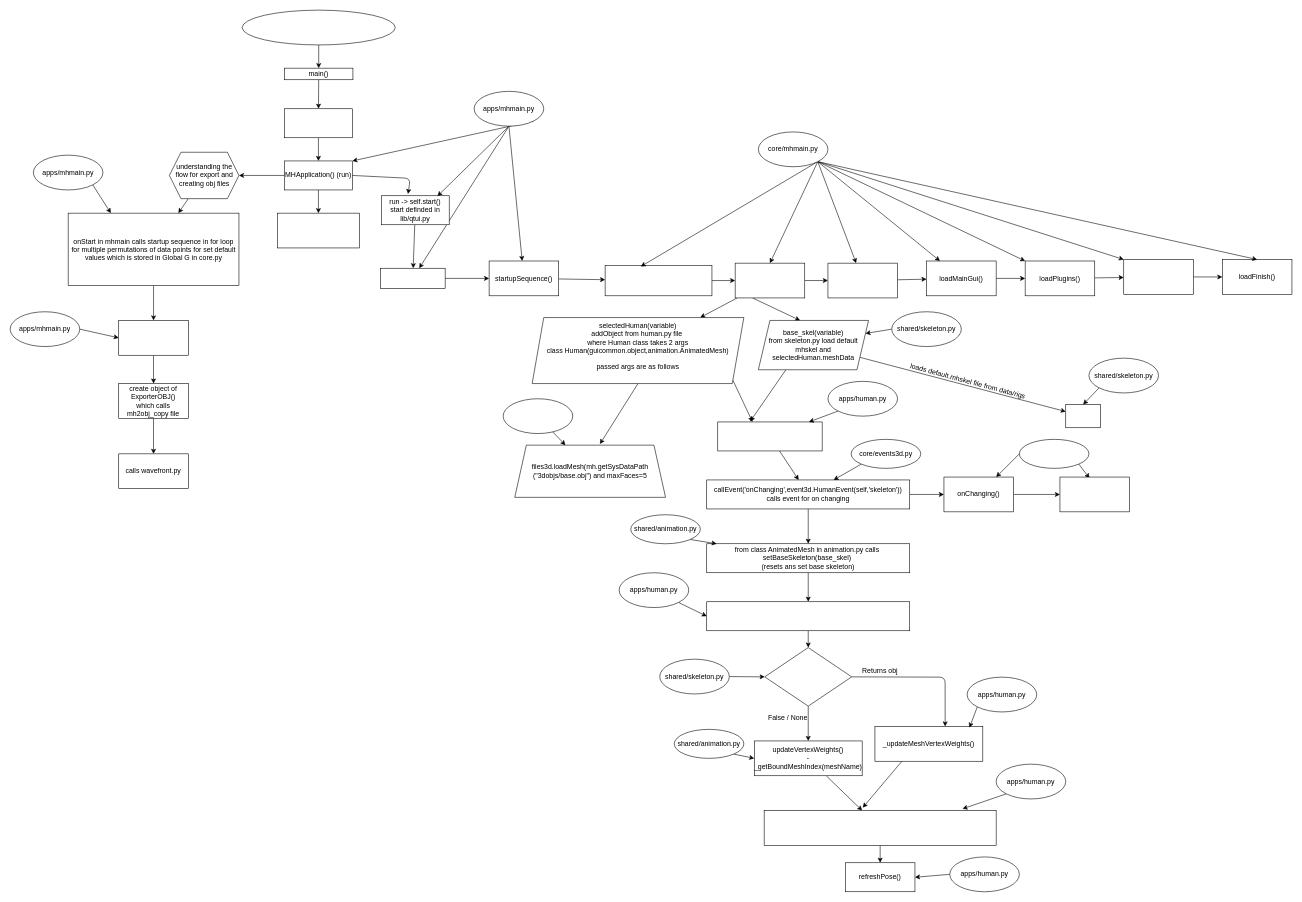
Some shapes in this 1302 by 902 pixel diagram are drawn without their labels. Here are the shapes that lost their labels. From the top down, the box of each, then its label:
(242, 10, 395, 45): makehuman.py
(284, 108, 352, 138): system settings import
(277, 213, 359, 248): close_standard_streams() (on function end)
(380, 268, 445, 289): onStart()
(605, 265, 712, 296): _processCommandlineArgs()
(735, 263, 805, 298): loadHuman()
(827, 263, 898, 298): loadScene()
(1123, 259, 1193, 294): loadGui()
(118, 320, 188, 355): calls myFunc() custom function to create obj files
(503, 398, 573, 434): core/files3d.py
(717, 421, 822, 451): selectedHuman calls setBaseSkeleton(base_skel)
(1065, 404, 1101, 428): load()
(1019, 439, 1089, 468): lib/modifierslider.py
(1059, 476, 1130, 512): _onChanging()
(706, 601, 910, 631): updateVertexWeights(skel.getVertexWeights() if skel else None)
(764, 647, 852, 706): getVertexWeights()
(764, 810, 996, 845): callEvent('onChanged',events3d.HumanEvent(self,'skeleton'))
